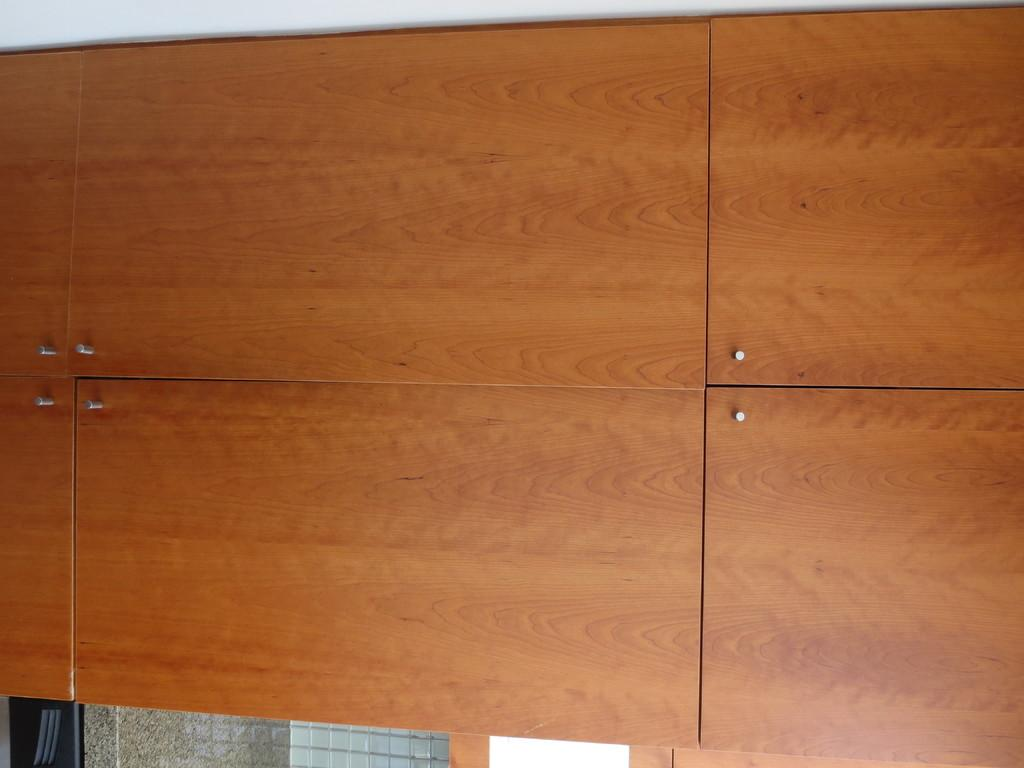cabinet_door: (71, 376, 700, 744), (68, 59, 706, 380), (703, 388, 1024, 746), (712, 22, 1024, 388), (3, 380, 76, 701), (15, 52, 71, 378)
handle: (66, 332, 100, 362), (722, 337, 754, 368), (728, 402, 750, 437), (34, 337, 58, 368), (86, 388, 104, 424), (34, 389, 56, 414)
